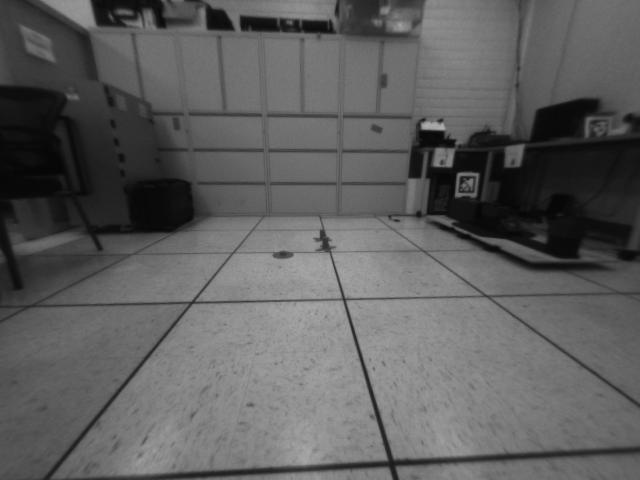X: (317, 241, 337, 251), (315, 230, 332, 240)
